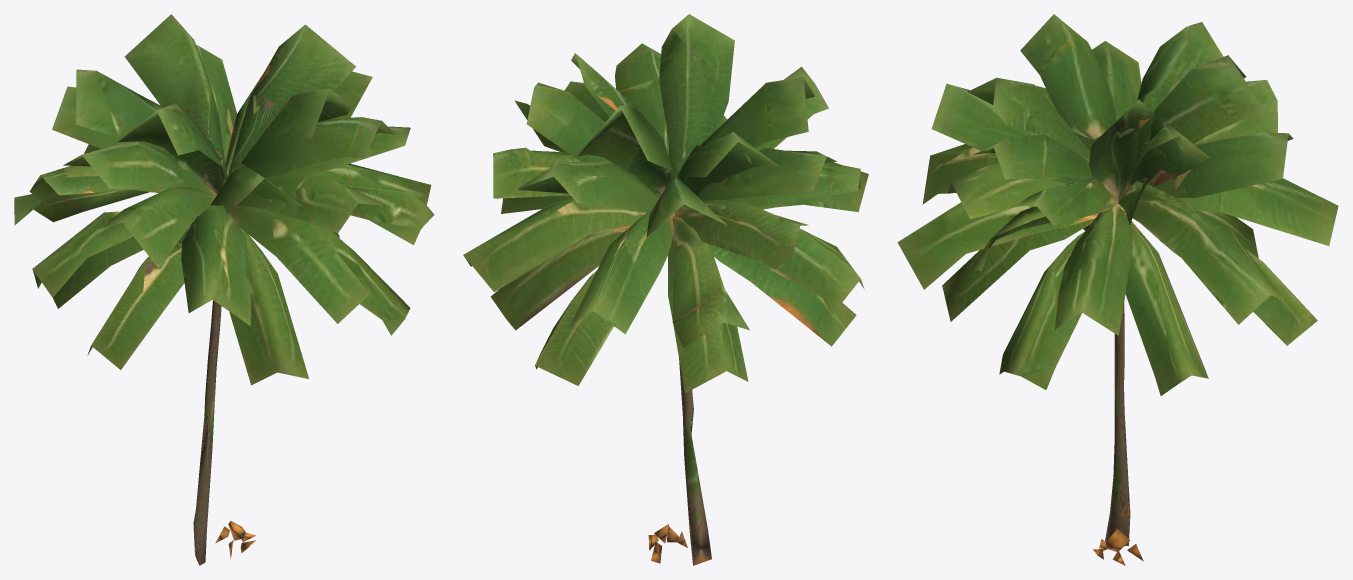
File: meshy-palm-lite.glb
The picture shows the model from 3 angles, left to right: view 1: azimuth 30°, elevation 25°; view 2: azimuth 150°, elevation 25°; view 3: azimuth 270°, elevation 25°; orthographic projection. The views are drawn at different scales.
Size of the model in its own units: 0.7965 by 1 by 0.7938.
Materials: 1 (1 with a texture image).
